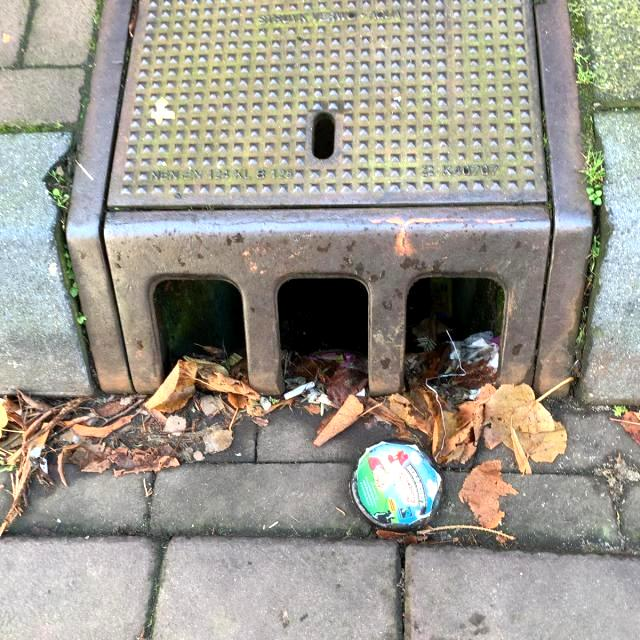Paper: (346, 436, 444, 534)
